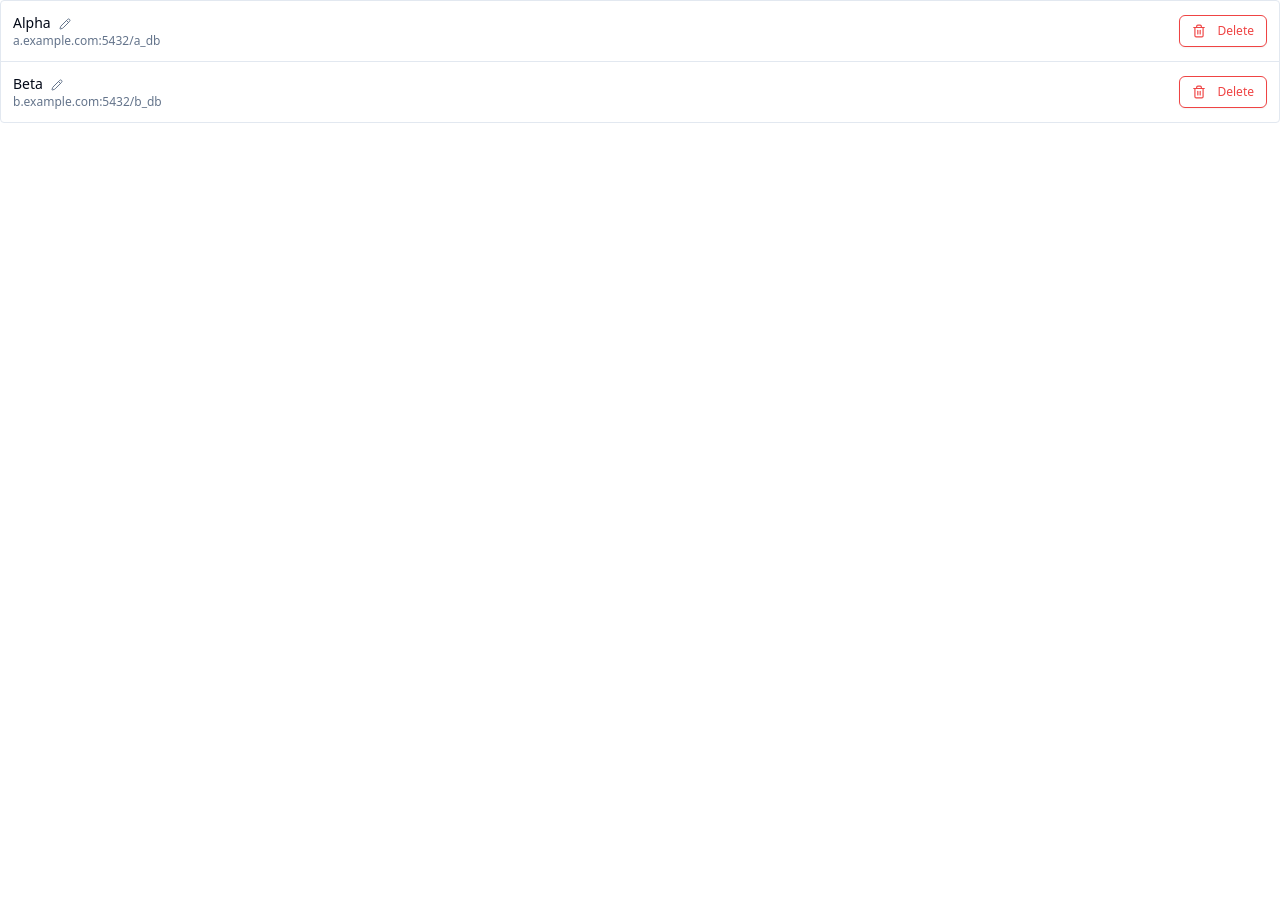
Test case: delete_profile failure surfaces the error and keeps the profile in the list
Click the button with aria-label "delete profile alpha": [1223, 31] box [1178,15,1267,47]
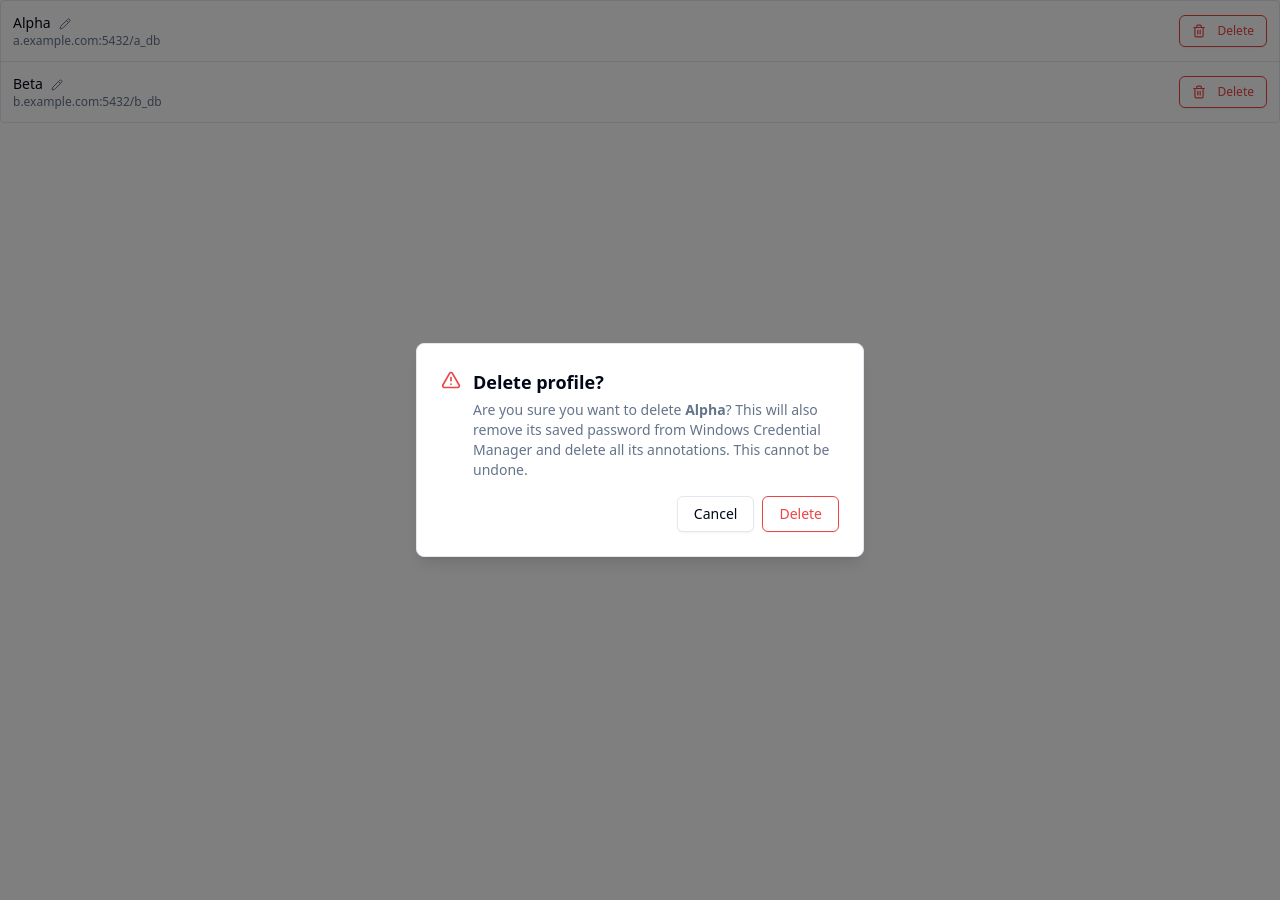
Expected: the dialog is shown
Click the button "Delete": [801, 514] box [762,496,839,532]
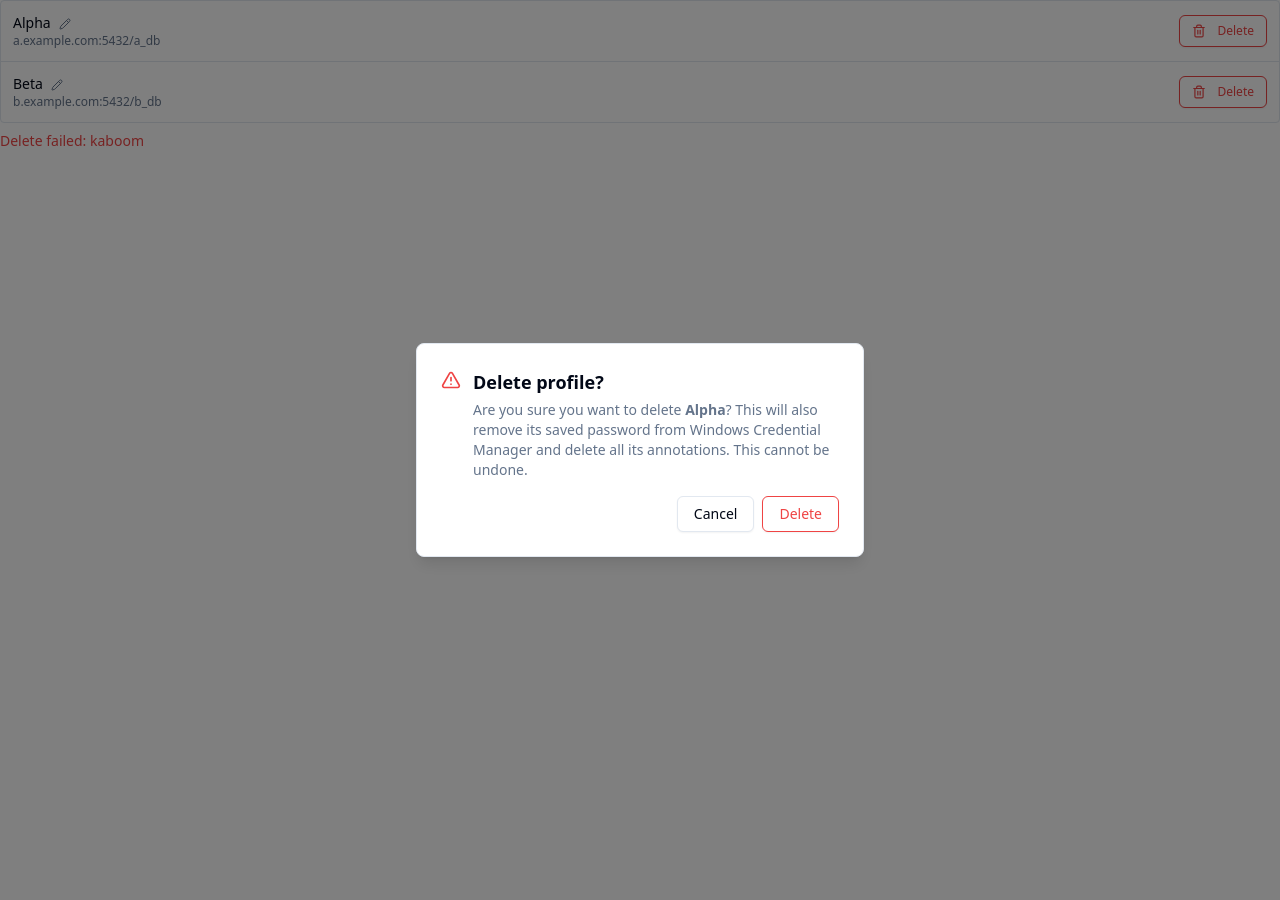
Expected: the text "Delete failed: kaboom" is shown, [0,131,144,150]
